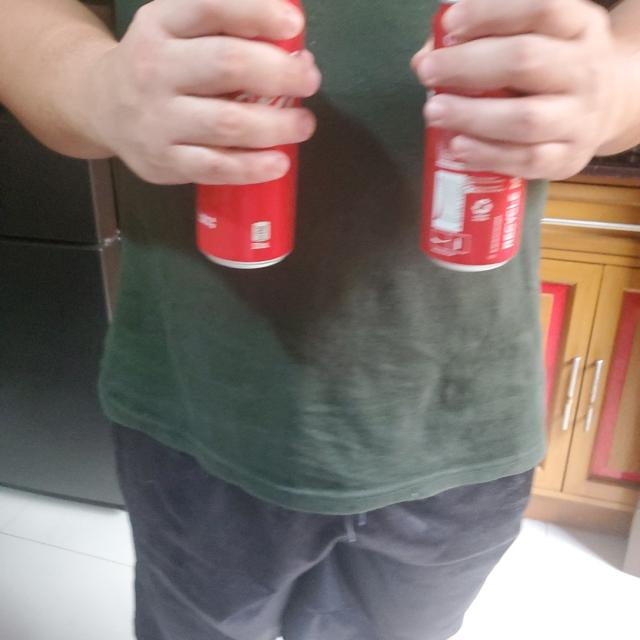coke: (191, 0, 307, 274), (420, 0, 520, 271)
